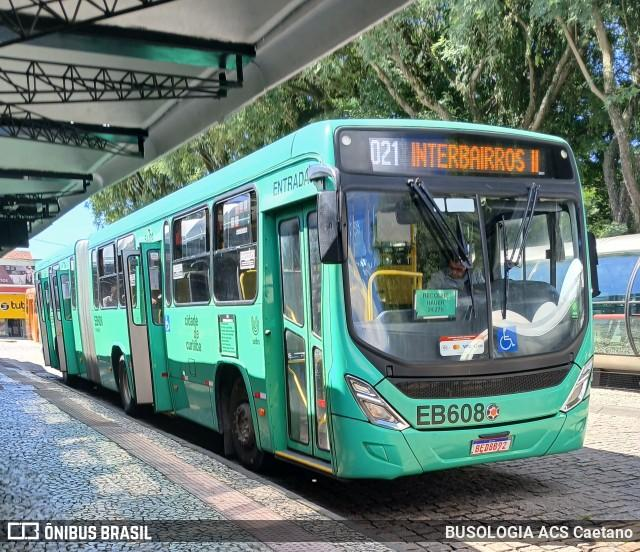INTERBAIRROS II: (405, 137, 547, 178)
